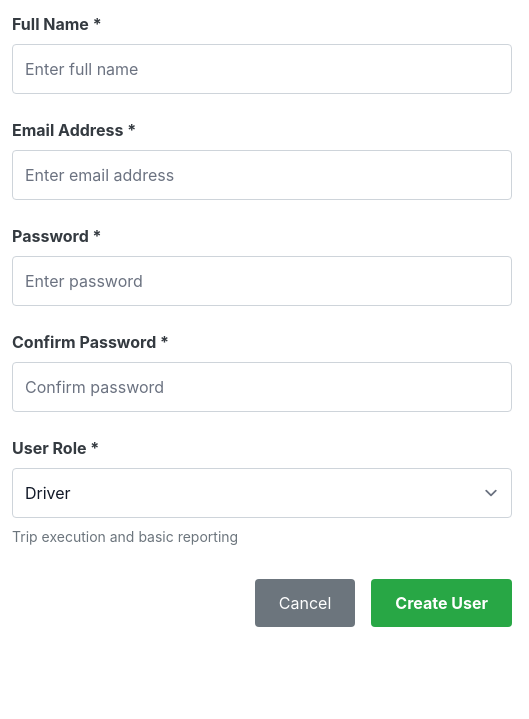
Test: UserForm Component › Form Interactions › clears validation errors when user starts typing
This screenshot has width=529, height=719.
// Trigger validation error
Click the button "Create User". click: (442, 603)
box: top-left (371, 579), bottom-right (512, 627)
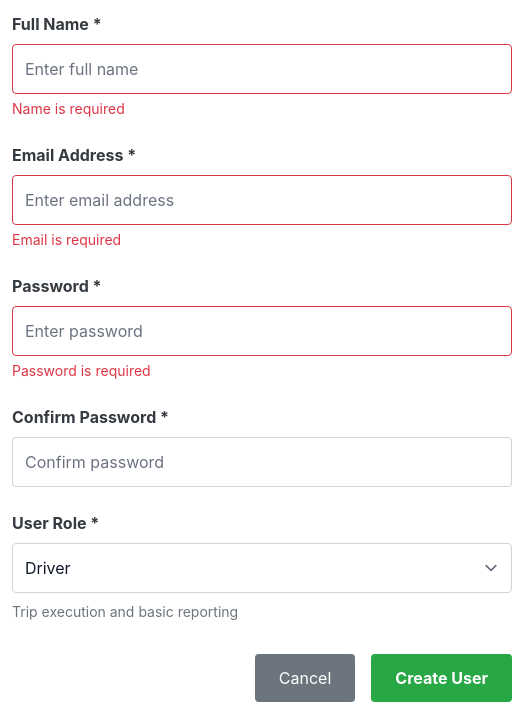
expect the text "Name is required" is shown: met, box top-left (12, 100), bottom-right (125, 117)
// Start typing
Type "J" into the field with placeholder "Enter full name". click: (262, 69)
box: top-left (12, 44), bottom-right (512, 94)
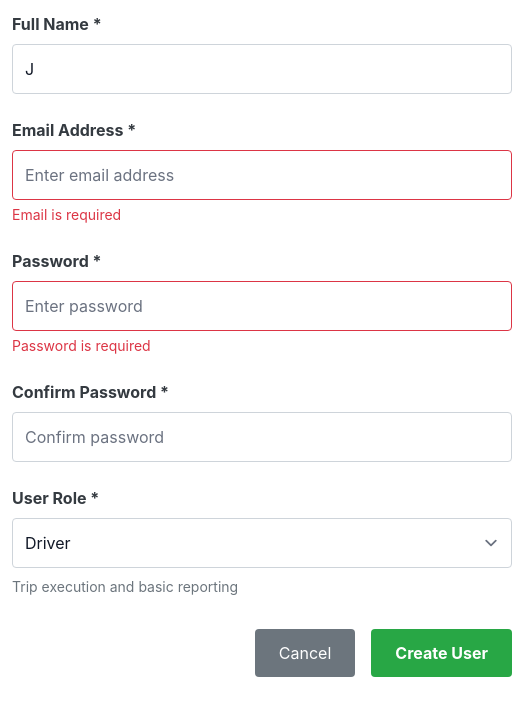
expect the text "Name is required" is gone: met
